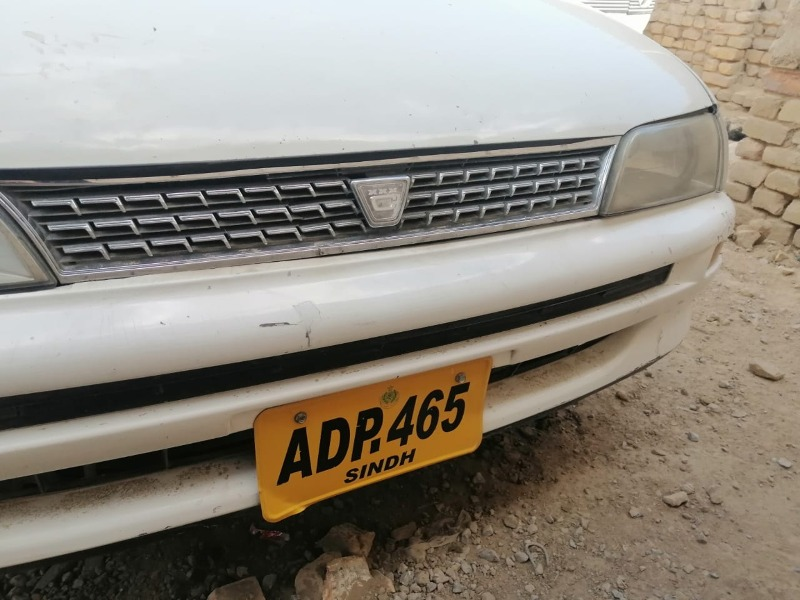License Plate: (242, 357, 494, 525)
